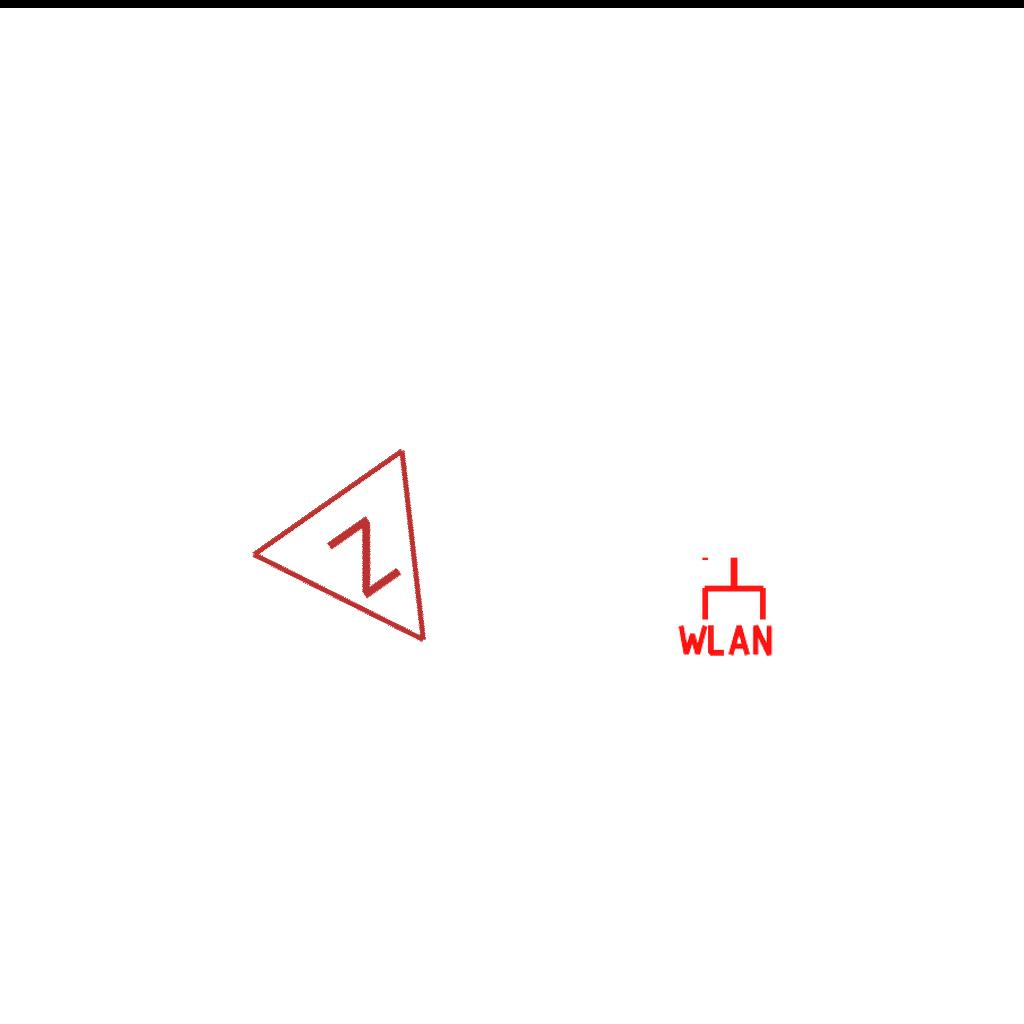WLAN: (673, 553, 777, 658)
Zimmersignalleuchte: (239, 430, 515, 708)
